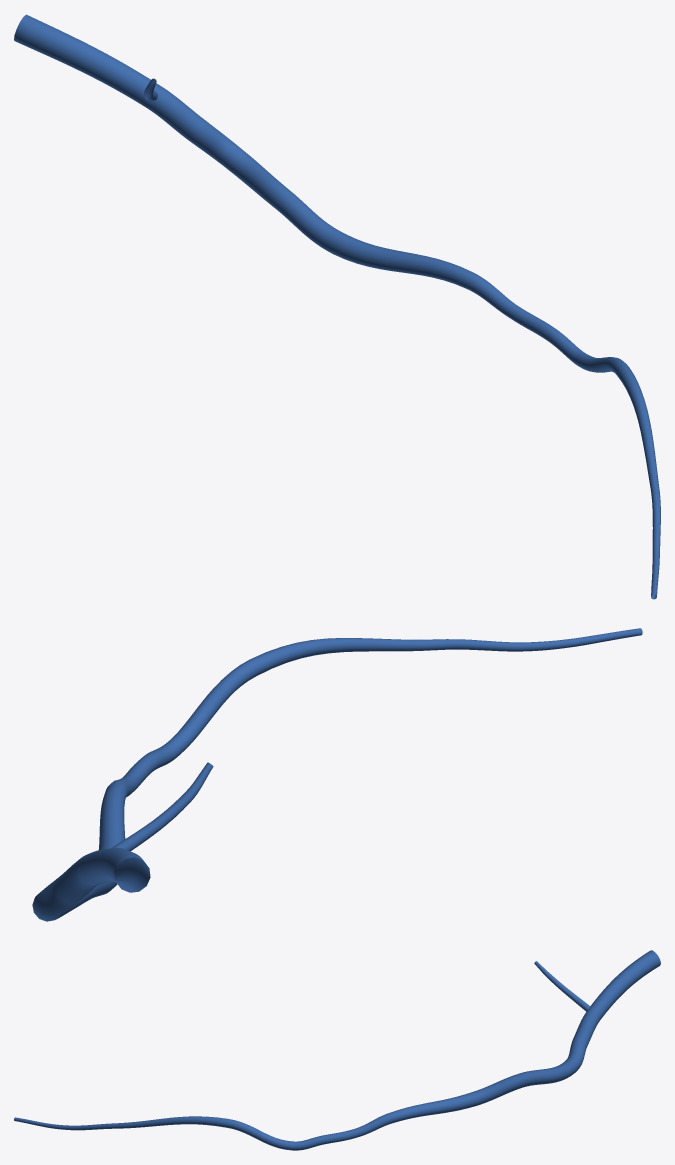
The picture shows the model from 3 angles, top to bottom: view 1: azimuth 30°, elevation 25°; view 2: azimuth 150°, elevation 25°; view 3: azimuth 270°, elevation 25°; orthographic projection. The views are drawn at different scales.
Visible parts, largest first — view 1: 右侧内眦静脉; view 2: 右侧内眦静脉; view 3: 右侧内眦静脉.
Part boxes in pixels (x1,y1,x2,y2): 右侧内眦静脉: (14,14,660,599); 右侧内眦静脉: (32,628,642,921); 右侧内眦静脉: (14,950,660,1150).
Size of the model in its own units: 0.0322 by 0.0248 by 0.1051.
